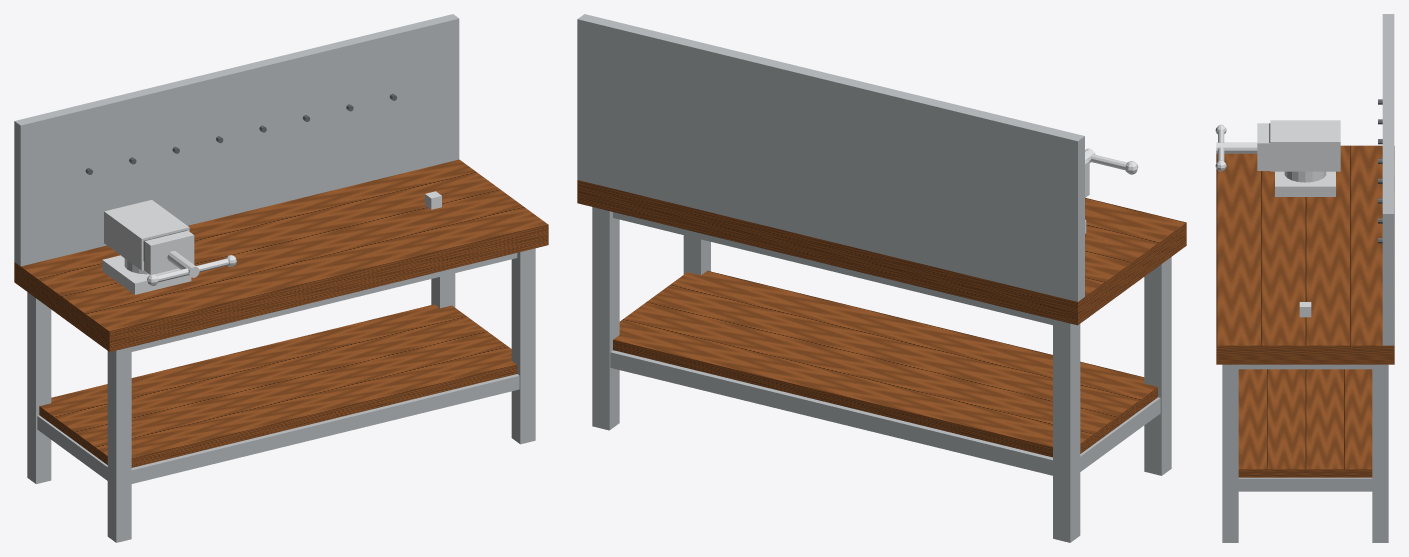
Rendered from workbench.glb.
3 renders of one model, left to right at view 1: azimuth 30°, elevation 25°; view 2: azimuth 150°, elevation 25°; view 3: azimuth 270°, elevation 25°, orthographic. The views are drawn at different scales.
Parts seen in each view (by area): view 1: car-repair-garage-and-mot-workshop-workbench-with-vice; view 2: car-repair-garage-and-mot-workshop-workbench-with-vice; view 3: car-repair-garage-and-mot-workshop-workbench-with-vice.
Part boxes in pixels (<box>): car-repair-garage-and-mot-workshop-workbench-with-vice: <box>14,14,548,542</box>; car-repair-garage-and-mot-workshop-workbench-with-vice: <box>577,14,1186,542</box>; car-repair-garage-and-mot-workshop-workbench-with-vice: <box>1215,14,1394,542</box>.
Size of the model in its own units: 2.02 by 1.57 by 0.764.
4 materials, 1 textured.
